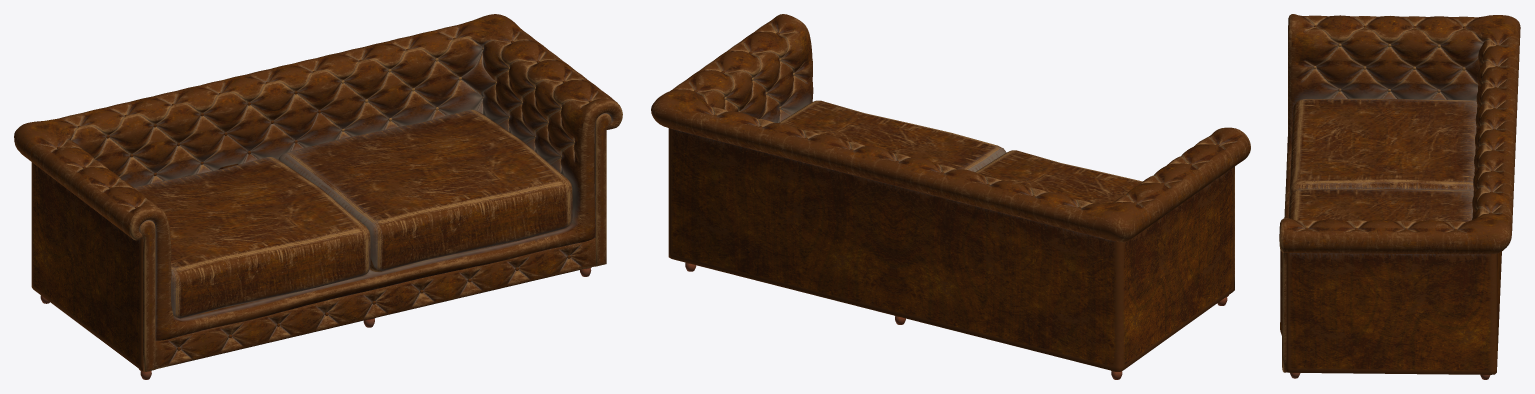
File: SOFA.obj.obj
3 views of the same model, side by side, from view 1: azimuth 30°, elevation 25°; view 2: azimuth 150°, elevation 25°; view 3: azimuth 270°, elevation 25° (orthographic). The views are drawn at different scales.
Visible parts, largest first — view 1: CAPITONIADO_SOFA3.004_Plano.004, CAPITONIADO_SOFA3.001_Plano.001, CAPITONIADO_SOFA3.002_Plano.002, CAPITONIADO_SOFA3.007_Plano.007, CAPITONIADO_SOFA3.003_Plano.003, CAPITONIADO_SOFA3.005_Plano.005, CAPITONIADO_SOFA3.006_Plano.006, CAPITONIADO_SOFA3_Plano.014; view 2: CAPITONIADO_SOFA3.007_Plano.007, CAPITONIADO_SOFA3.004_Plano.004, CAPITONIADO_SOFA3.001_Plano.001, CAPITONIADO_SOFA3.002_Plano.002; view 3: CAPITONIADO_SOFA3.004_Plano.004, CAPITONIADO_SOFA3.007_Plano.007, CAPITONIADO_SOFA3.002_Plano.002, CAPITONIADO_SOFA3.001_Plano.001, CAPITONIADO_SOFA3.006_Plano.006, CAPITONIADO_SOFA3_Plano.014.
Boxes of the visible parts, bbox=[...] form: CAPITONIADO_SOFA3.004_Plano.004: bbox=[14, 14, 622, 340]; CAPITONIADO_SOFA3.001_Plano.001: bbox=[278, 109, 572, 271]; CAPITONIADO_SOFA3.002_Plano.002: bbox=[133, 157, 370, 318]; CAPITONIADO_SOFA3.007_Plano.007: bbox=[31, 162, 142, 370]; CAPITONIADO_SOFA3.003_Plano.003: bbox=[155, 238, 595, 369]; CAPITONIADO_SOFA3.005_Plano.005: bbox=[139, 220, 155, 372]; CAPITONIADO_SOFA3.006_Plano.006: bbox=[594, 113, 611, 266]; CAPITONIADO_SOFA3_Plano.014: bbox=[57, 37, 591, 350]; CAPITONIADO_SOFA3.007_Plano.007: bbox=[668, 128, 1233, 371]; CAPITONIADO_SOFA3.004_Plano.004: bbox=[651, 14, 1250, 242]; CAPITONIADO_SOFA3.001_Plano.001: bbox=[779, 100, 1006, 171]; CAPITONIADO_SOFA3.002_Plano.002: bbox=[975, 150, 1142, 203]; CAPITONIADO_SOFA3.004_Plano.004: bbox=[1279, 14, 1520, 335]; CAPITONIADO_SOFA3.007_Plano.007: bbox=[1286, 251, 1501, 374]; CAPITONIADO_SOFA3.002_Plano.002: bbox=[1289, 98, 1477, 197]; CAPITONIADO_SOFA3.001_Plano.001: bbox=[1288, 189, 1473, 221]; CAPITONIADO_SOFA3.006_Plano.006: bbox=[1282, 252, 1286, 372]; CAPITONIADO_SOFA3_Plano.014: bbox=[1305, 25, 1498, 230].
Size of the model in its own units: 3.79 by 1.29 by 1.73.
